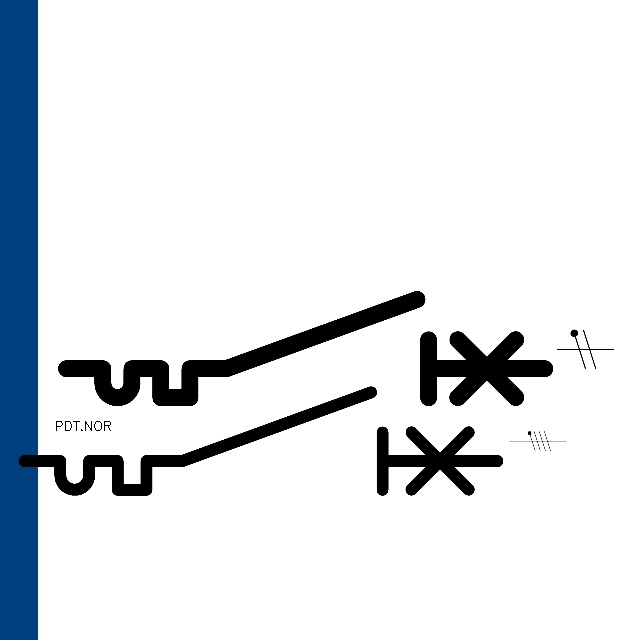interruptor_termomagnetico: (54, 287, 557, 410), (12, 380, 510, 502)
